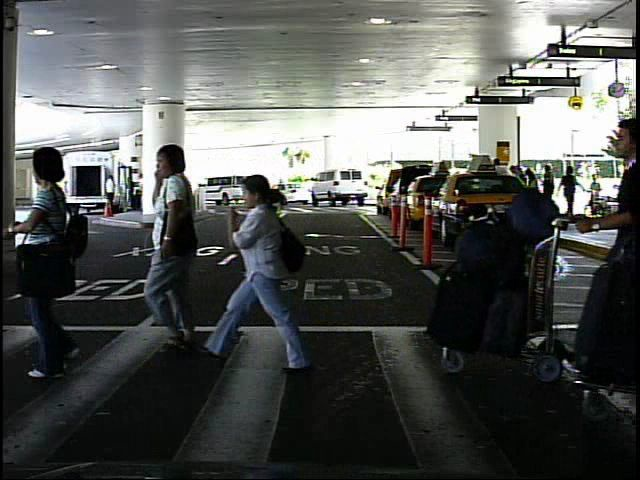person: (10, 134, 103, 382), (211, 159, 305, 382), (140, 138, 223, 360), (586, 172, 605, 218), (103, 172, 120, 200), (259, 178, 270, 204)
